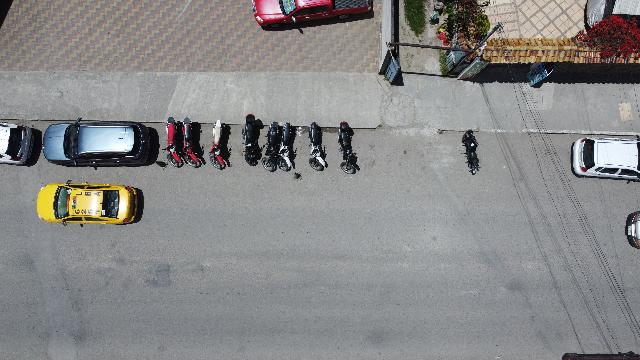Vehiculo: (42, 118, 150, 167), (36, 180, 138, 226), (252, 0, 372, 28), (570, 137, 640, 183), (624, 211, 640, 248)
